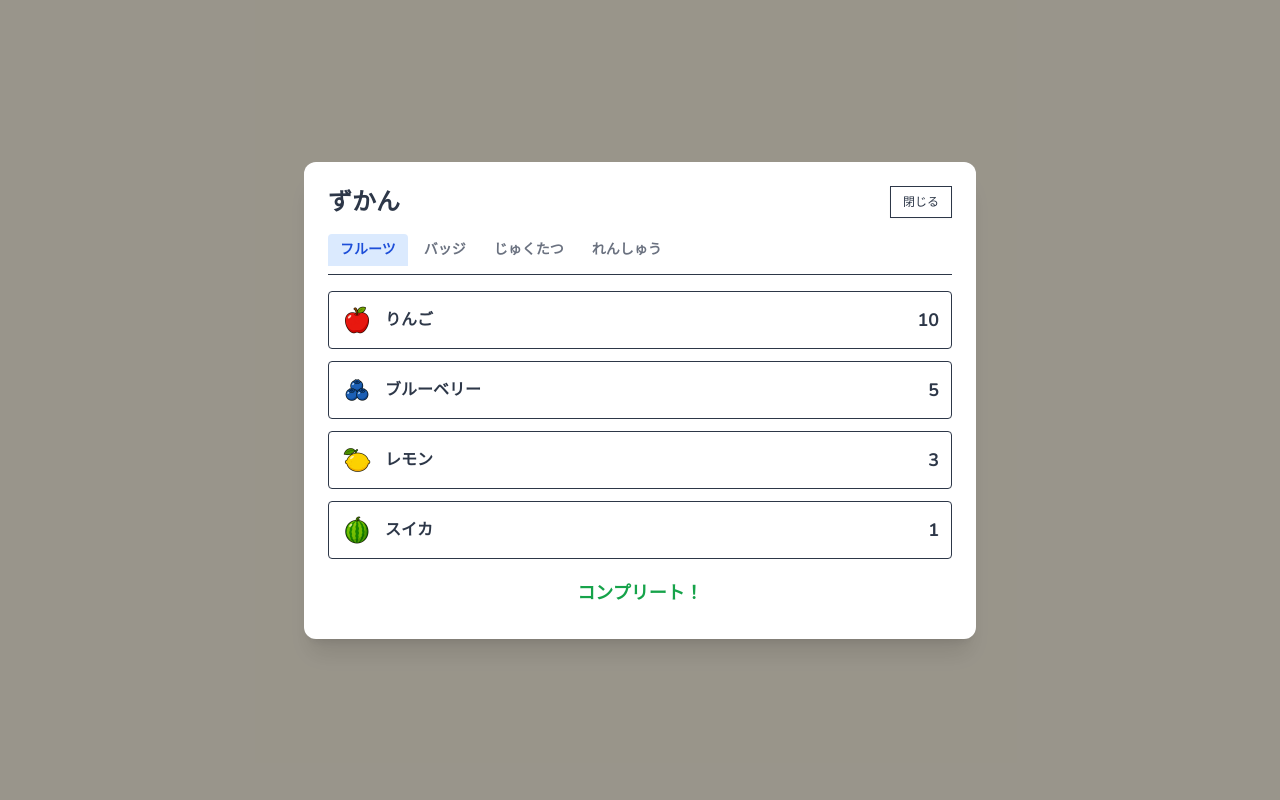
Test: CollectionModal (Task 12 / design §13) › AC-9.5: れんしゅうタブに連続日数と30日分スタンプグリッド
Step 1. Click the tab with test id "collection-tab-practice" → [627, 250], box top-left (580, 234), bottom-right (674, 266)
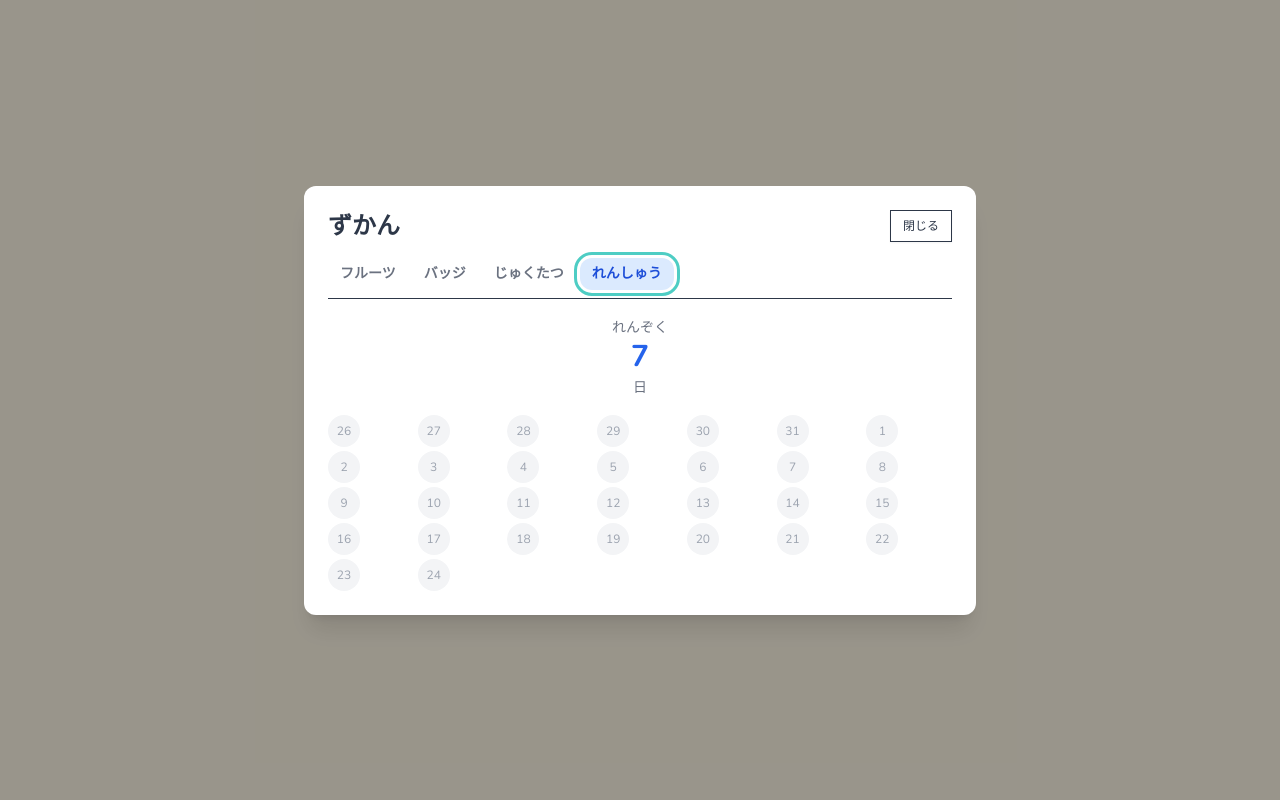
expect the text with test id "collection-practice-streak" reads "7": met, box top-left (631, 336), bottom-right (649, 376)
expect the element with test id "collection-stamp-calendar" is shown: met, box top-left (328, 414), bottom-right (952, 590)
expect the text "26" is shown: met, box top-left (328, 414), bottom-right (360, 446)
